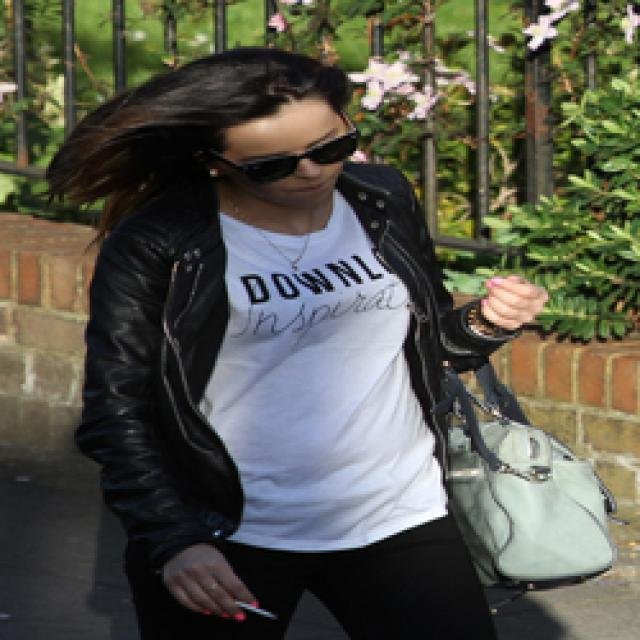Smooking: (235, 589, 280, 631)
